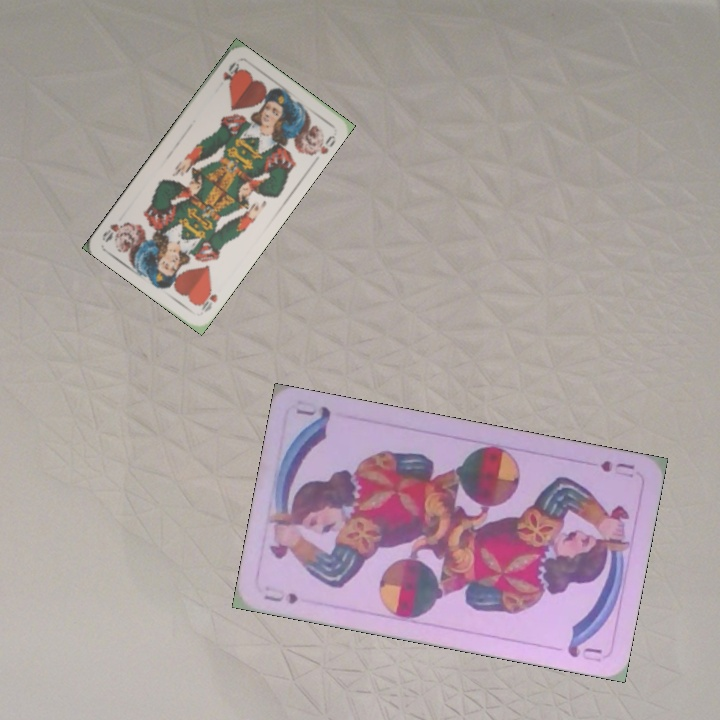HO: (194, 283, 220, 315), (219, 57, 242, 83)
SU: (260, 582, 301, 607), (596, 456, 637, 481)
